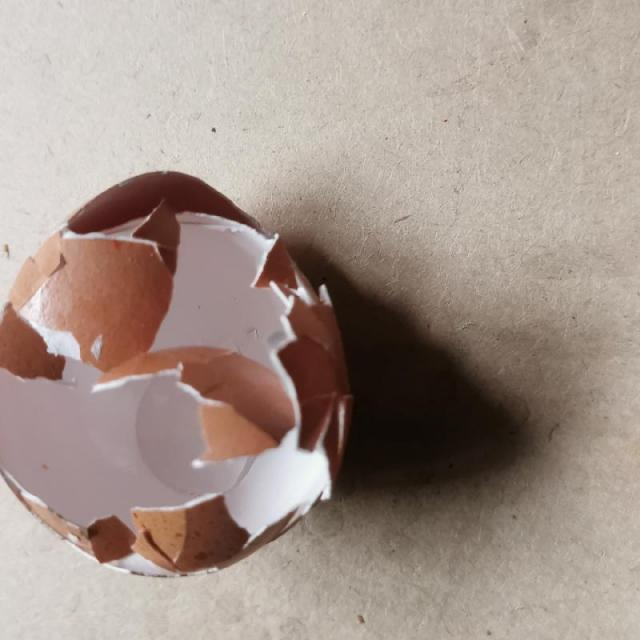egg shell: (1, 168, 355, 580)
